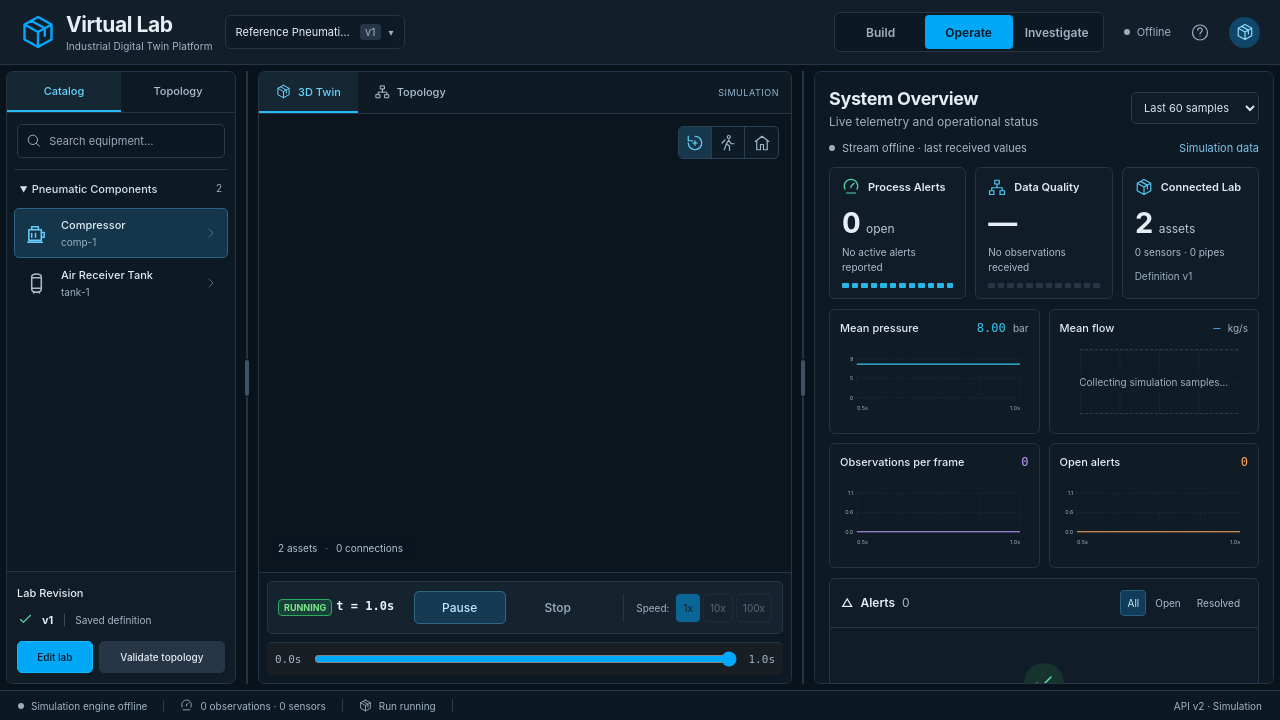
Test: retains collected telemetry when returning from Investigate
This screenshot has width=1280, height=720.
Check: the heading "System Overview" is shown, box x1=829 y1=88 x2=978 y2=109
Check: the picture named "Mean pressure history" is shown, box x1=840 y1=335 x2=1028 y2=429
Click the tab "Investigate".
click(1057, 32)  # box x1=1013 y1=15 x2=1101 y2=49
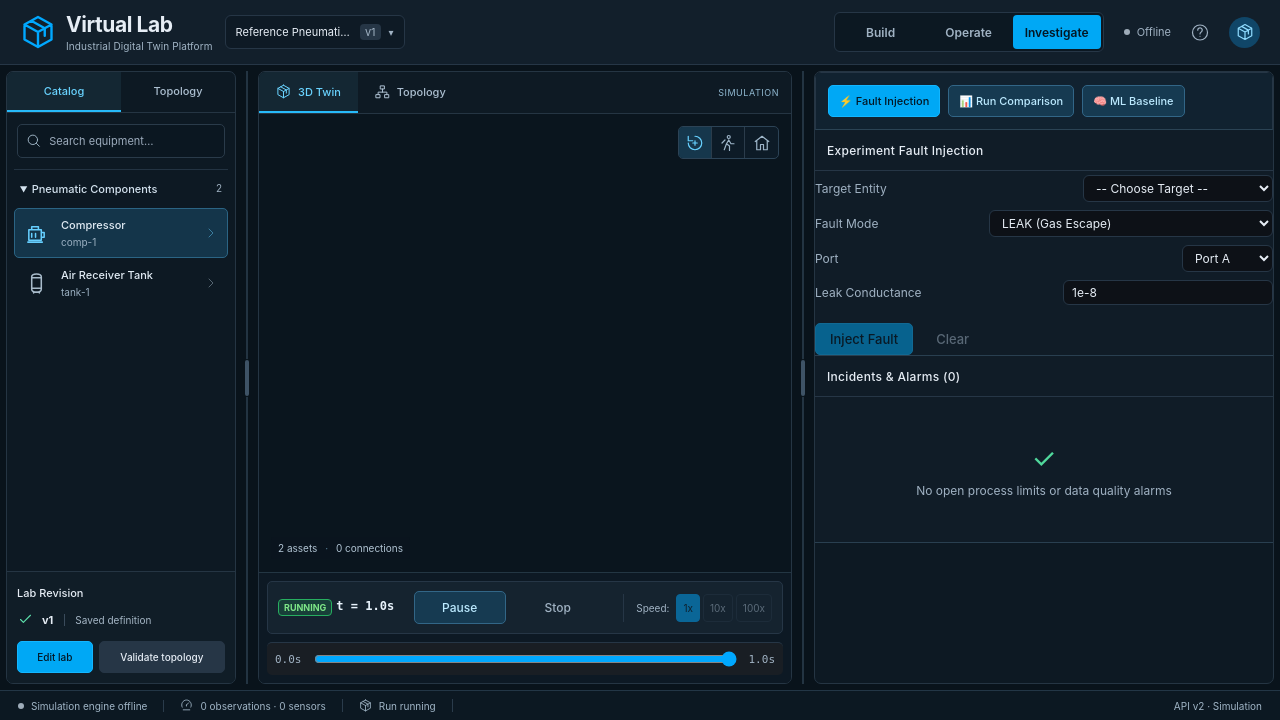
Click the tab "Operate".
click(969, 32)  # box x1=925 y1=15 x2=1013 y2=49
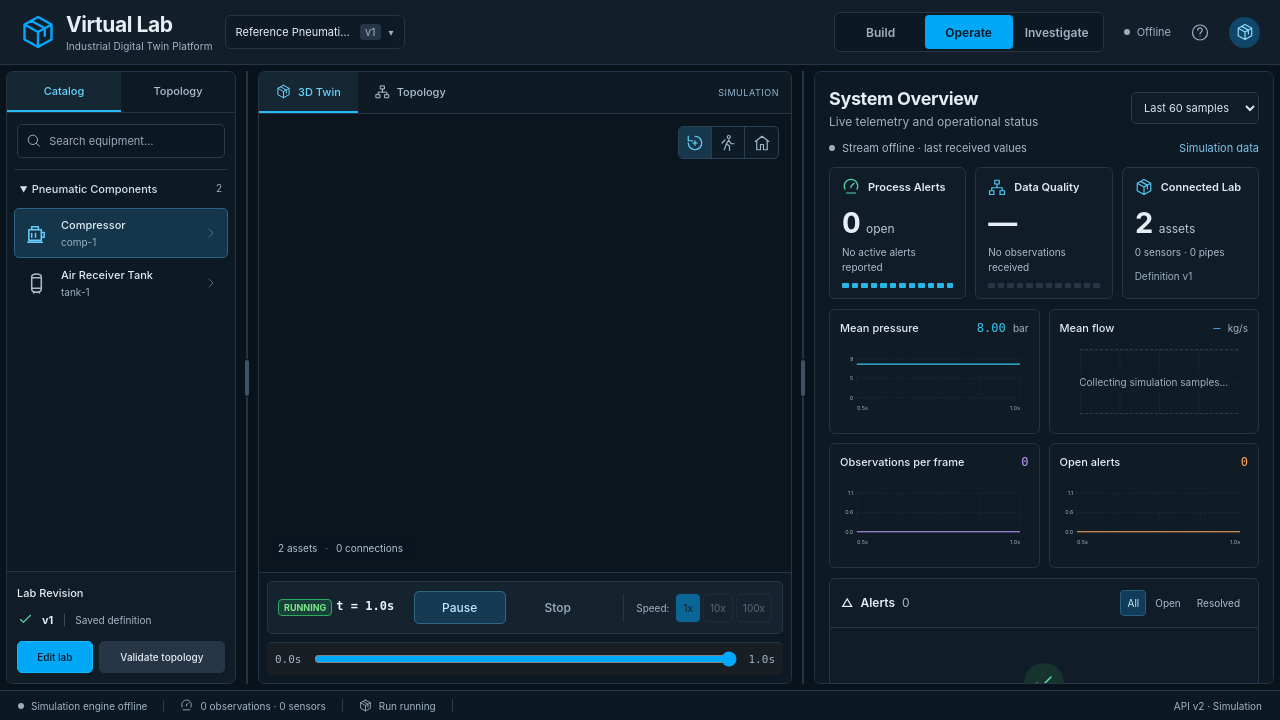
Check: the picture named "Mean pressure history" is shown, box x1=840 y1=335 x2=1028 y2=429
